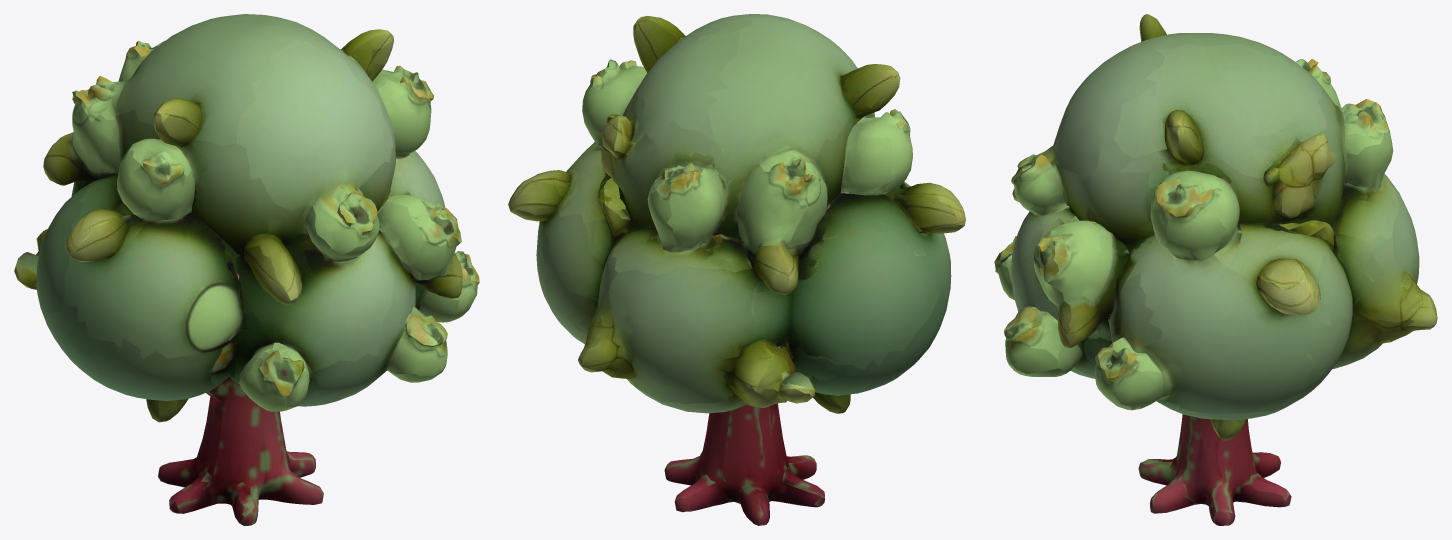
File: fruit_tree_persimmon_bare.glb
3 views of the same model, side by side, from view 1: azimuth 30°, elevation 25°; view 2: azimuth 150°, elevation 25°; view 3: azimuth 270°, elevation 25° (orthographic). The views are drawn at different scales.
Visible parts, largest first — view 1: fruit_tree_persimmon_s71; view 2: fruit_tree_persimmon_s71; view 3: fruit_tree_persimmon_s71.
Boxes of the visible parts, x1=… form: fruit_tree_persimmon_s71: x1=14, y1=14, x2=479, y2=525; fruit_tree_persimmon_s71: x1=508, y1=14, x2=965, y2=525; fruit_tree_persimmon_s71: x1=994, y1=14, x2=1437, y2=525.
Bounding box in the file's own units: 0.8857 × 1 × 0.891.
Materials: 1 (1 with a texture image).
